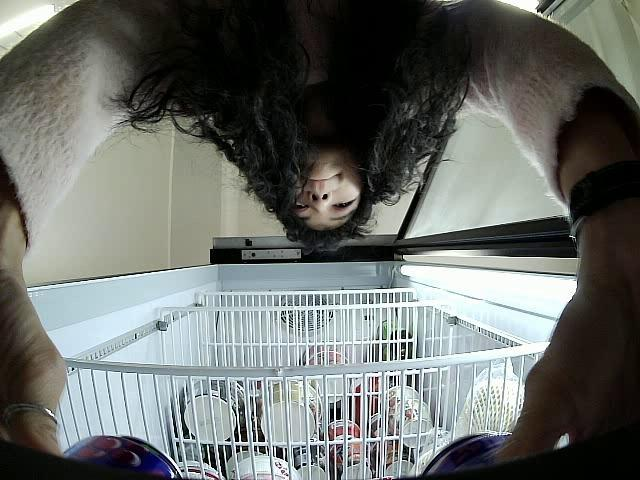14_welchsGrape: (404, 425, 536, 480), (48, 432, 182, 480)
